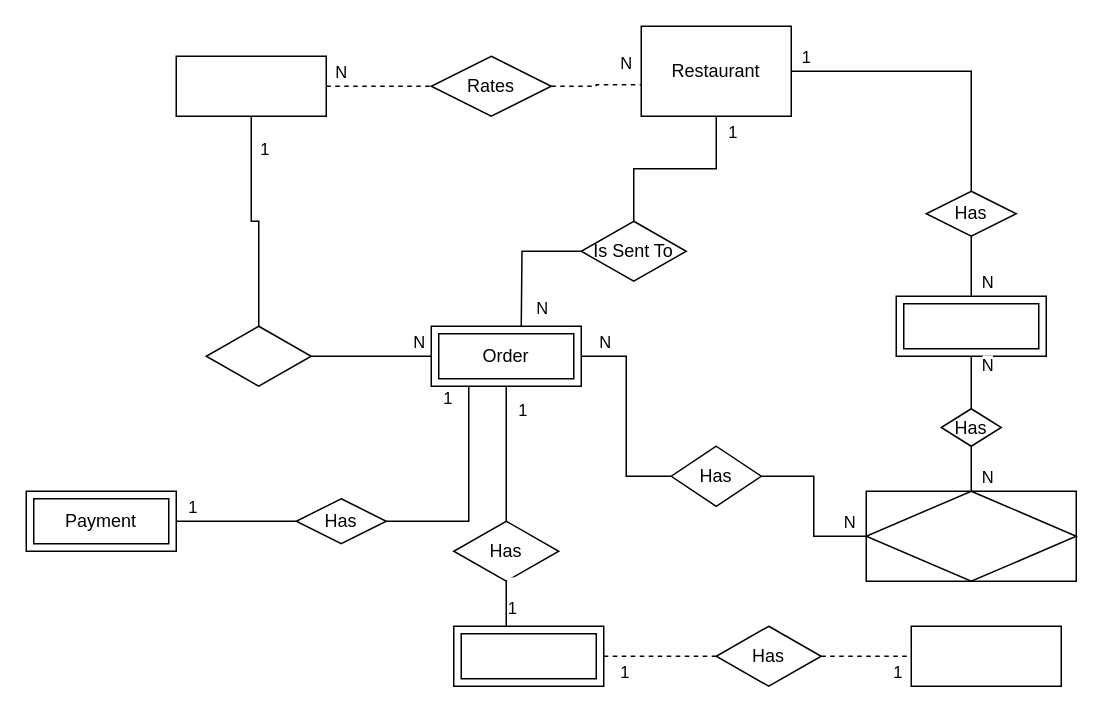
Some shapes in this 1103 by 713 pixel diagram are drawn without their labels. The box of each missing label's shape, as (x1, y1, x2, y2) in pixels:
Courier: (910, 625, 1061, 686)
Delivery: (452, 625, 604, 686)
Food Item: (865, 490, 1076, 581)
Menu: (895, 295, 1046, 356)
Places: (205, 325, 311, 386)
User: (175, 55, 326, 116)
